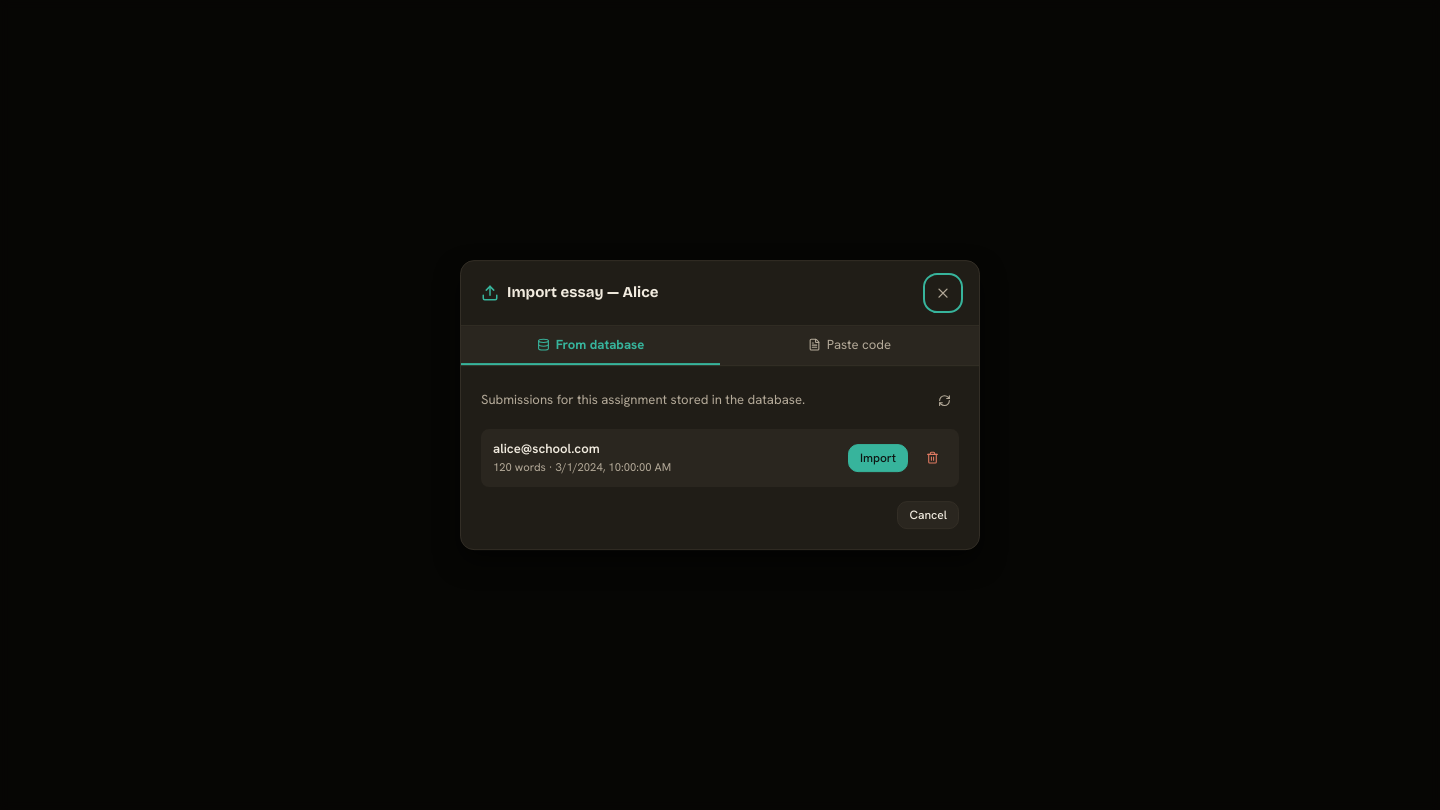
Test case: EssayImportModal › database tab › shows an error message when deleting a submission fails
The width and height of the screenshot is (1440, 810).
Expected: the text "alice@school.com" is shown, 493,440 -> 600,457
Click the button titled "tooltips.delete_submission" at (932, 458), box 918,444 -> 947,472
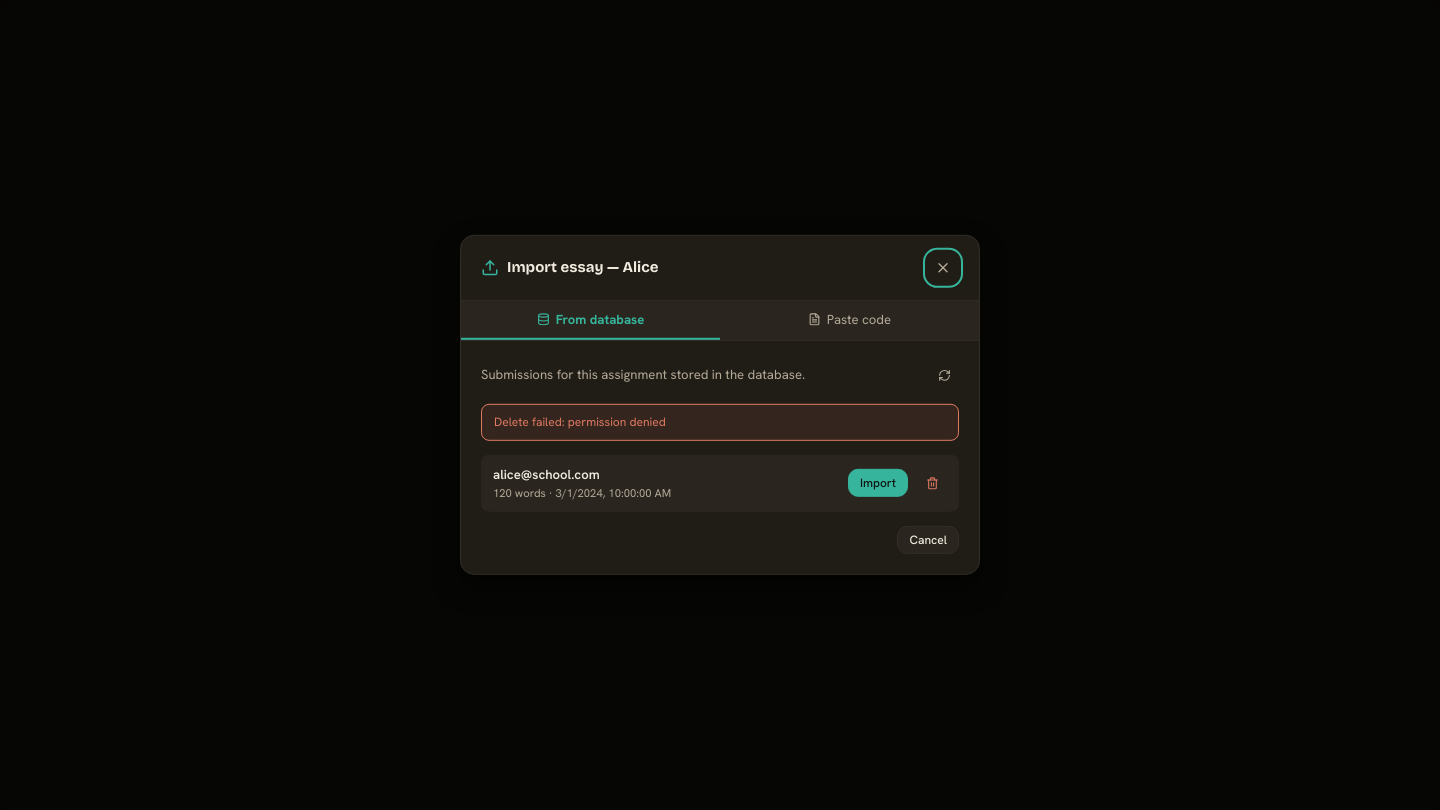
Expected: the text "alice@school.com" is shown, 493,465 -> 600,482
Now the text "Delete failed: permission denied" is shown, box 481,404 -> 959,440
